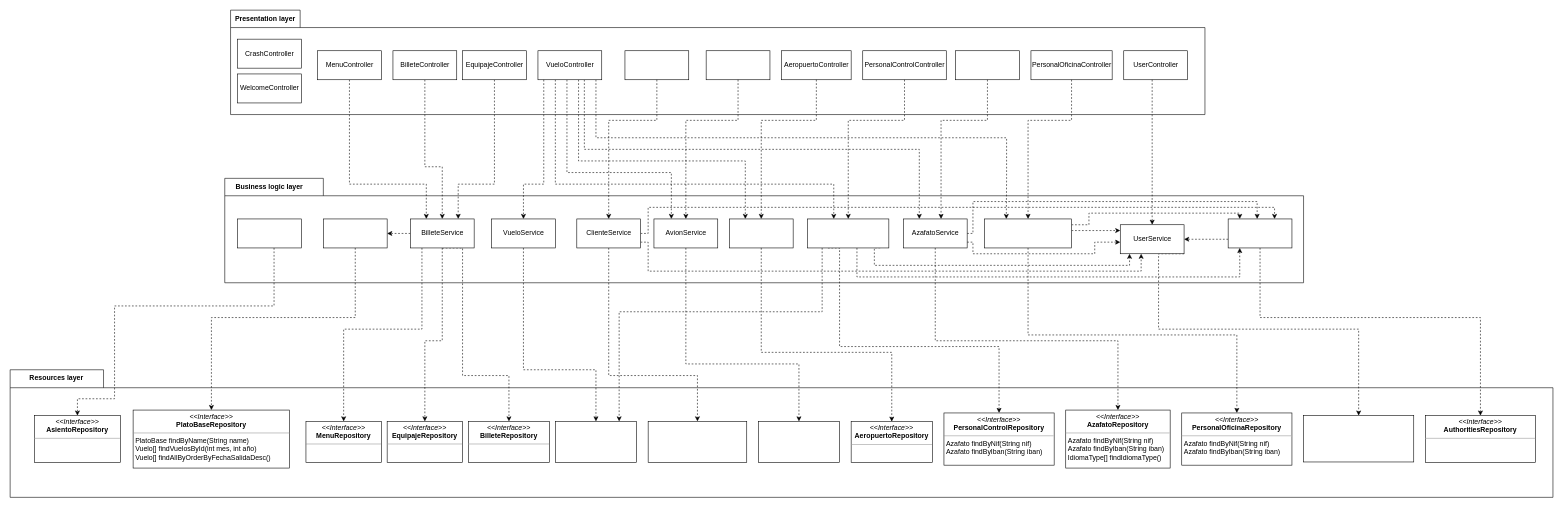
This 1563x508 diagram has some shape labels left out. Each missing label, with the box of its shape:
<<Interface>> AvionRepository: (758, 421, 840, 463)
<<Interface>> ClienteRepository Cliente findByNif(String nif): (648, 421, 747, 463)
<<Interface>> UserRepository: (1303, 415, 1414, 462)
<<Interface>> VueloRepository: (555, 421, 637, 463)
AeropuertoService: (729, 218, 793, 248)
AsientoService: (237, 218, 301, 248)
AuthoritiesService: (1228, 218, 1292, 248)
AvionController: (706, 50, 770, 80)
AzafatoController: (955, 50, 1019, 80)
ClienteController: (624, 50, 689, 80)
PersonalControlService: (807, 218, 889, 248)
PersonalOficinaService: (984, 218, 1072, 248)
PlatoBaseService: (323, 218, 387, 248)
